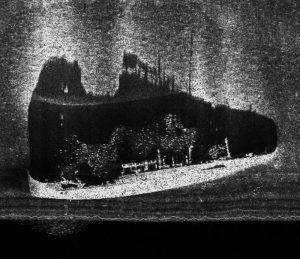ship: (25, 111, 280, 202)
